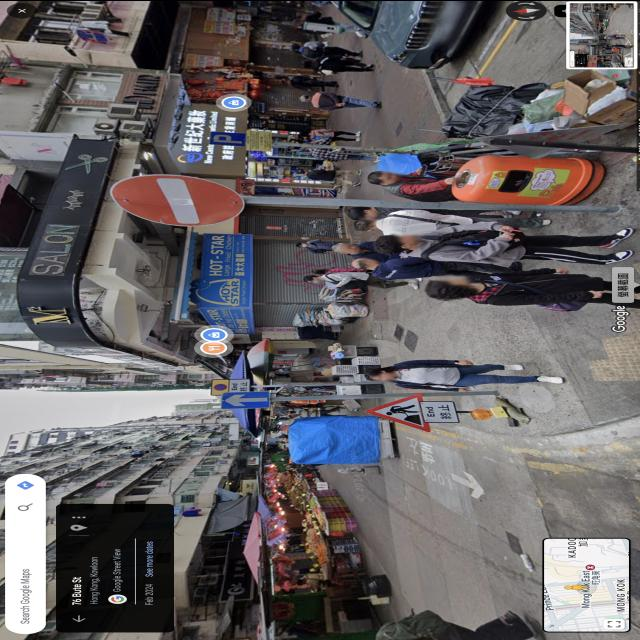Direction-Sign: (220, 392, 268, 408)
Order-Sign: (110, 174, 243, 225), (424, 401, 456, 421), (212, 378, 248, 392)
Warning-Sign: (364, 391, 430, 432)
